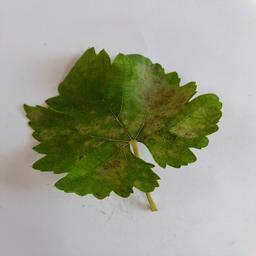Powdery-Mildew: (147, 93, 210, 142), (130, 62, 165, 97), (98, 152, 128, 182), (28, 105, 44, 122), (80, 118, 96, 135), (41, 128, 58, 144)
